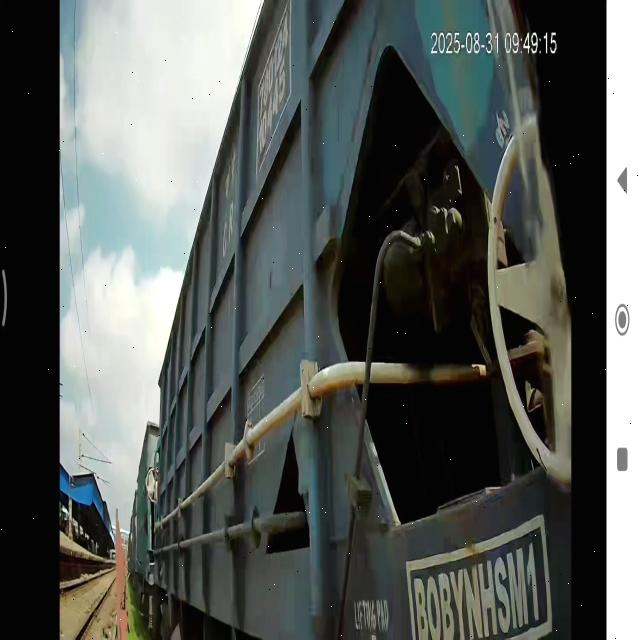coach: (160, 4, 573, 640)
